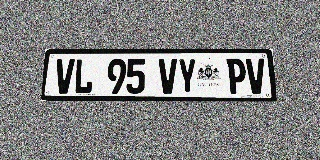5: (126, 59, 145, 94)
9: (107, 59, 126, 94)
L: (73, 59, 94, 94)
P: (226, 58, 247, 94)
V: (245, 58, 266, 94), (54, 59, 75, 94), (159, 59, 177, 94)
Y: (178, 59, 197, 94)
